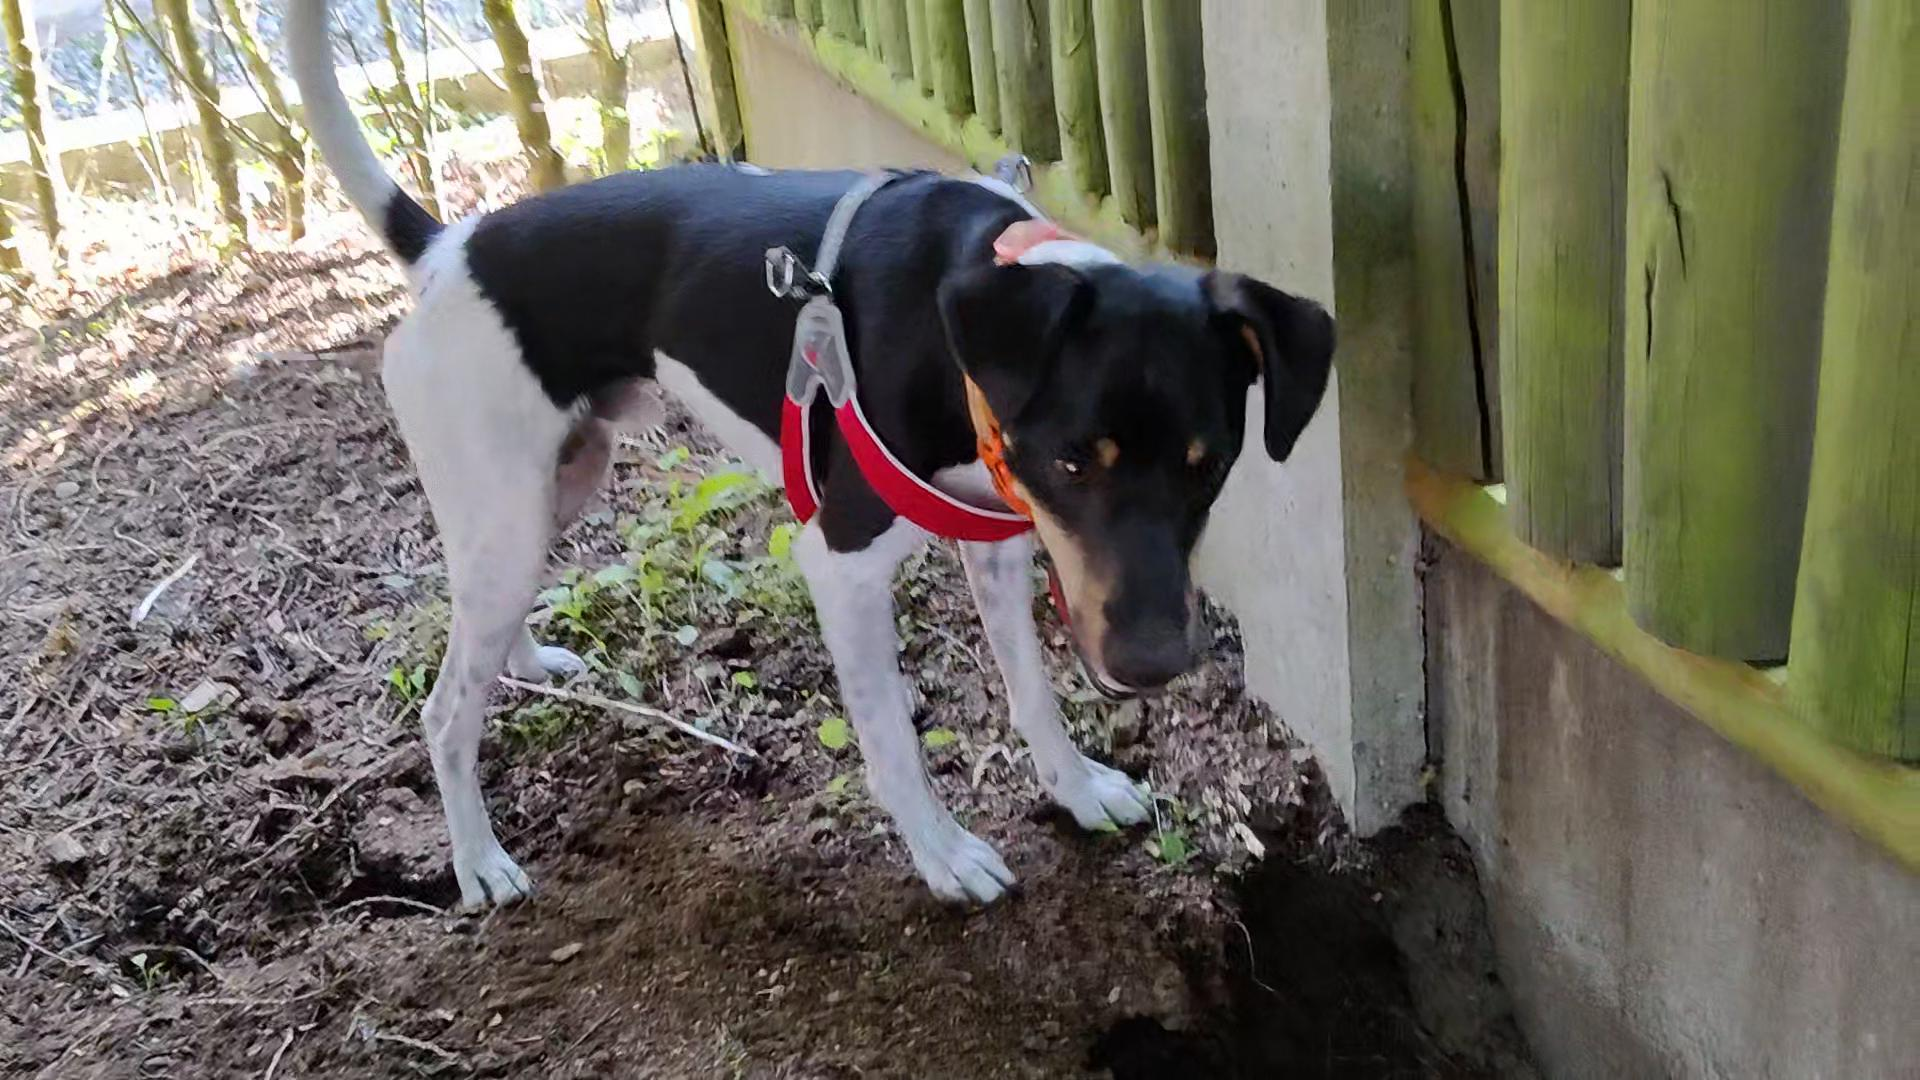Dog: (269, 0, 1364, 928)
